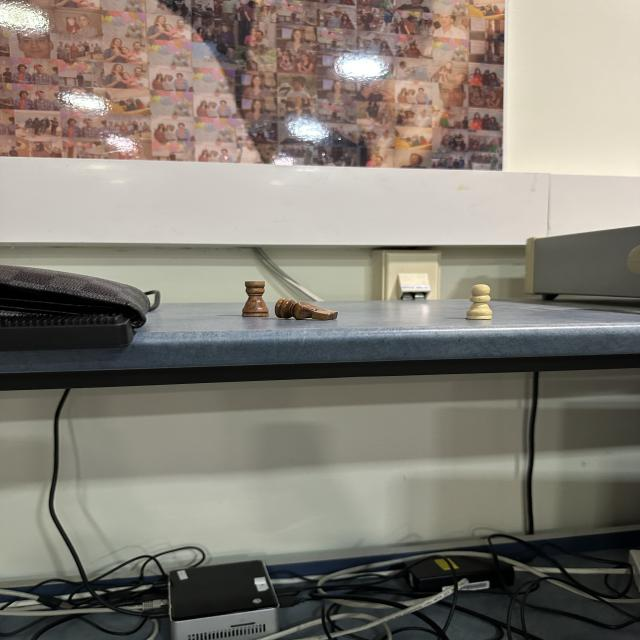Black-Knight: (274, 298, 338, 321)
Black-Rook: (241, 280, 271, 318)
White-Pawn: (466, 284, 493, 320)
